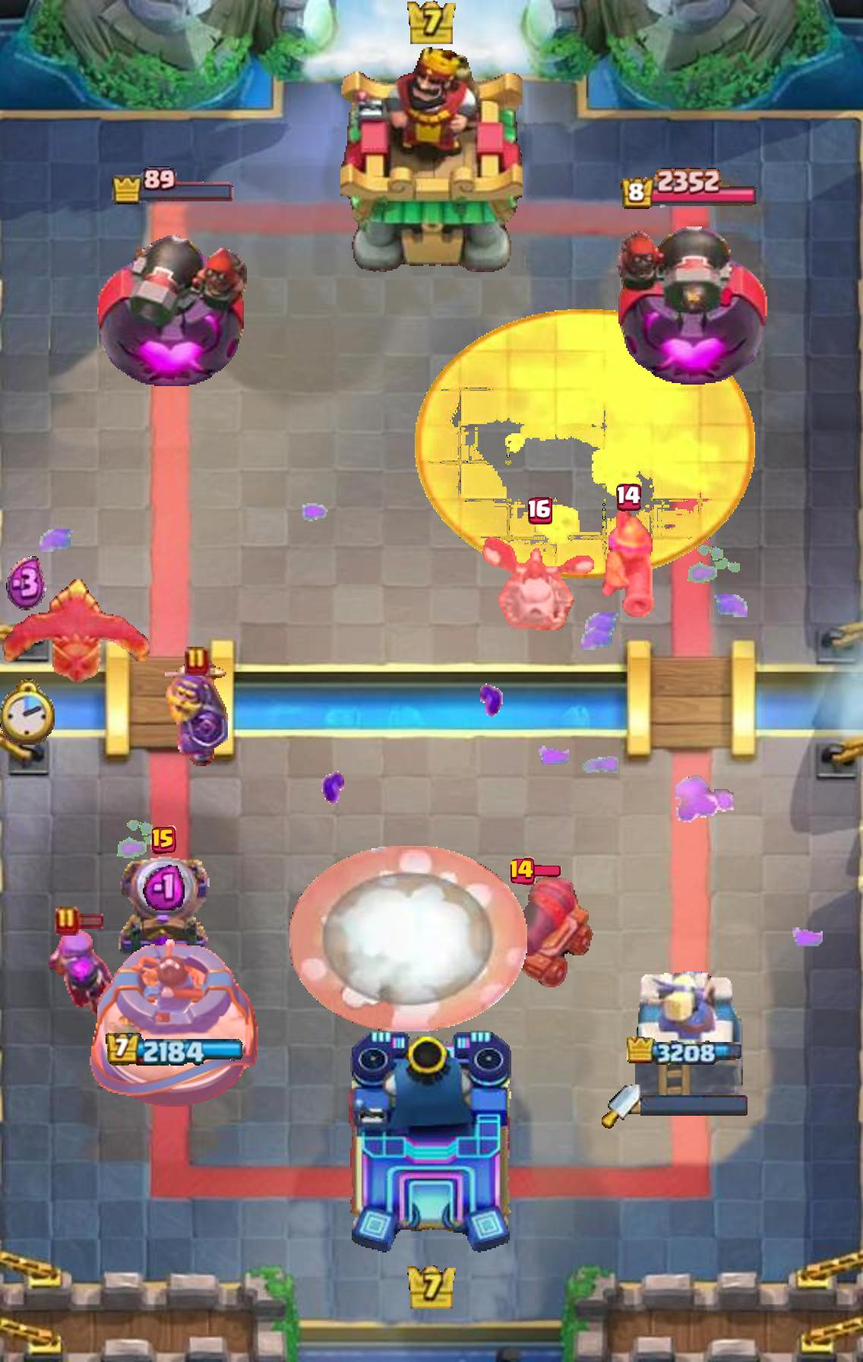elixir: (6, 556, 46, 611), (143, 862, 185, 911)
